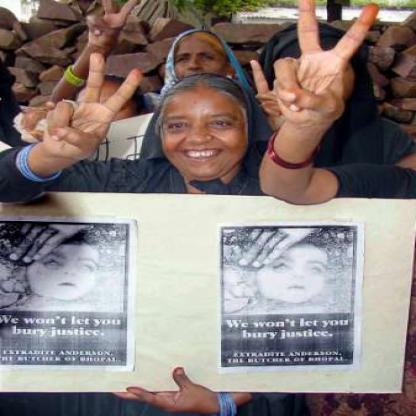face: (160, 75, 252, 181), (30, 236, 104, 303), (259, 244, 333, 307), (175, 32, 226, 89)
